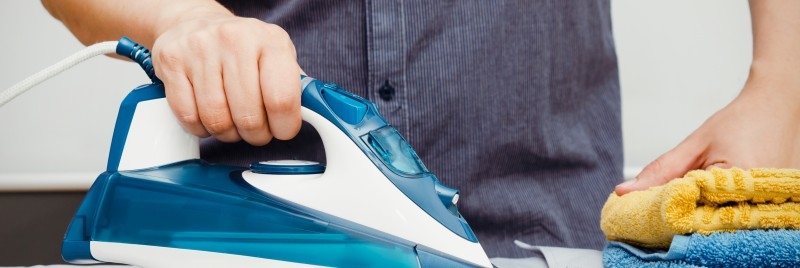iron: (58, 76, 490, 268)
